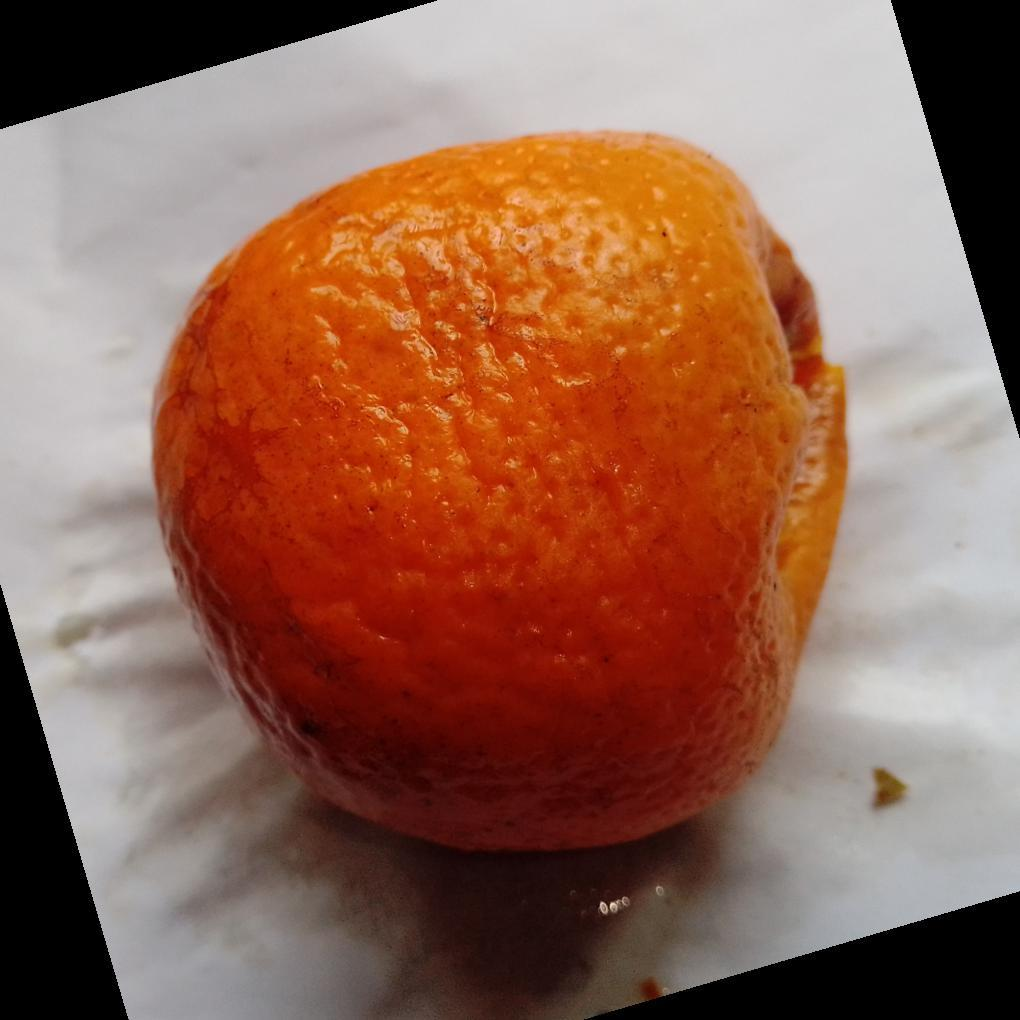FreshOrange: (149, 131, 851, 859)
